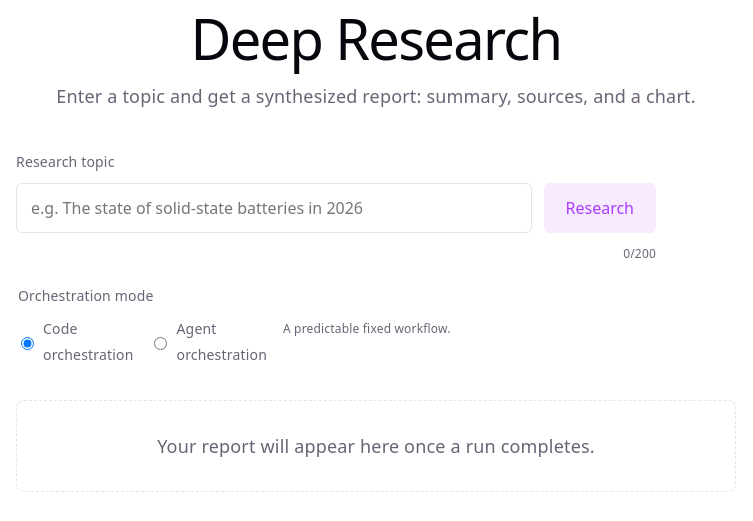
Test: clarification flow › shows a generic Agent failure without rendering a report
Click the radio button labelled "Agent orchestration" at [161, 343], box [154,337,168,350]
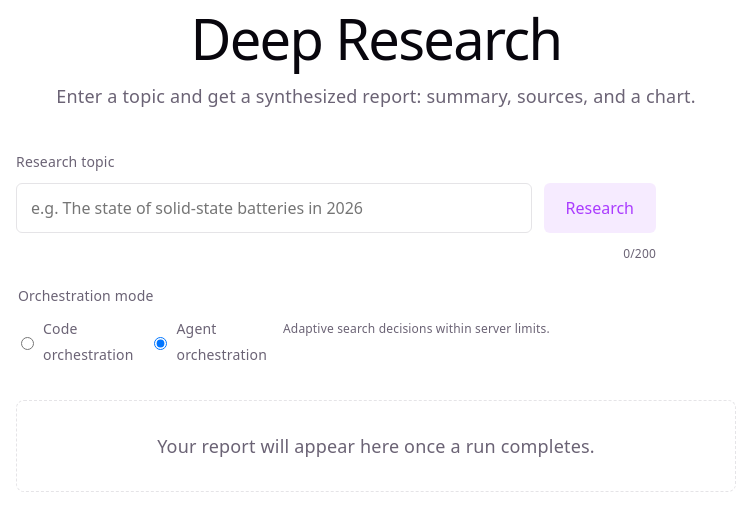
Type "topic" into the field labelled "Research topic" at [274, 208], box [16,183,532,233]
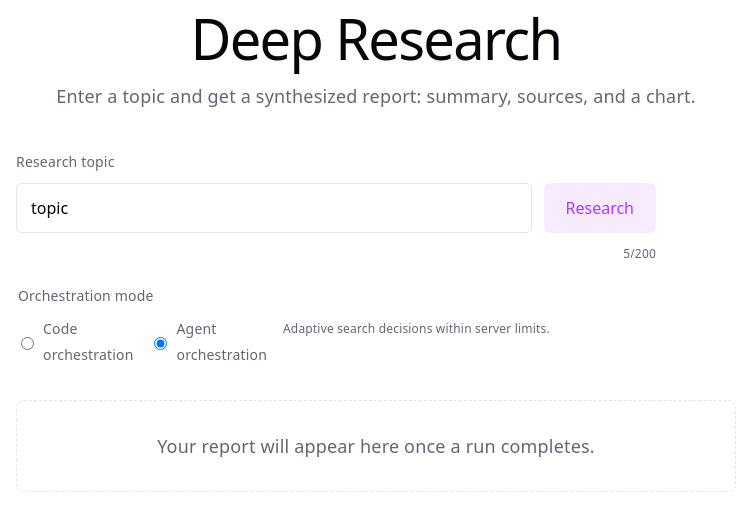
Click the button "Research" at [600, 208], box [544,183,656,233]
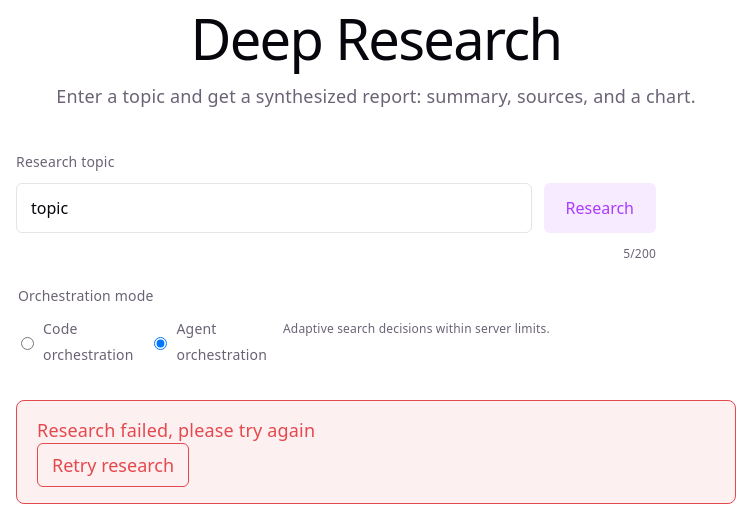
Check: the message shows "Research failed, please try again", box [37,418,315,442]
